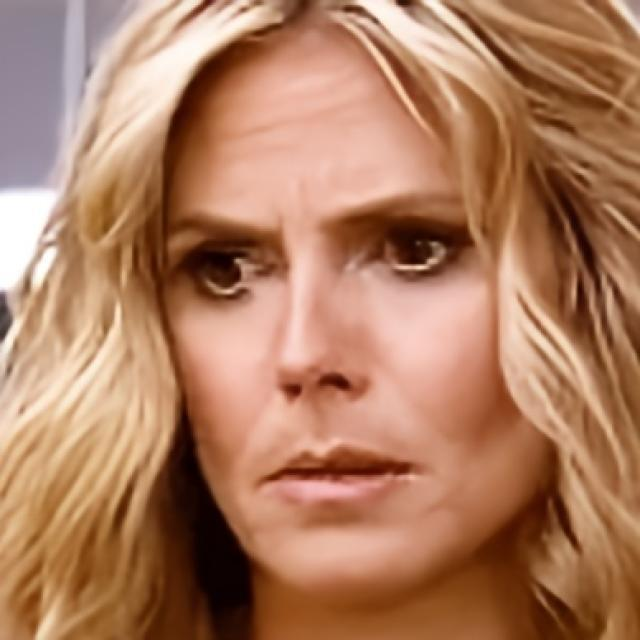Fear: (160, 15, 562, 592)
